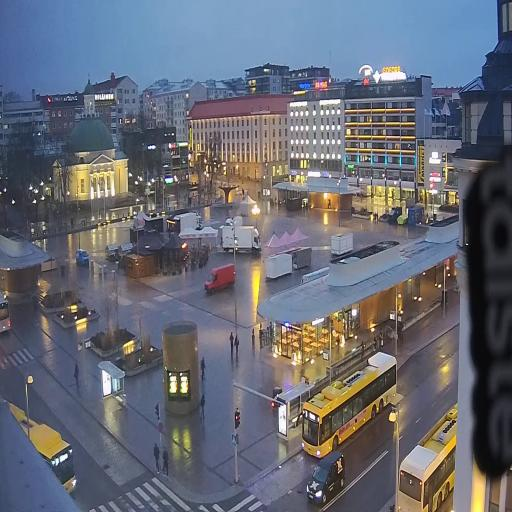bus: (297, 341, 402, 458), (388, 392, 464, 512), (0, 396, 84, 502), (0, 281, 17, 338)
delivery: (304, 444, 352, 506), (204, 260, 238, 298), (218, 224, 262, 252), (173, 208, 203, 234), (222, 210, 246, 230), (75, 246, 91, 270)
